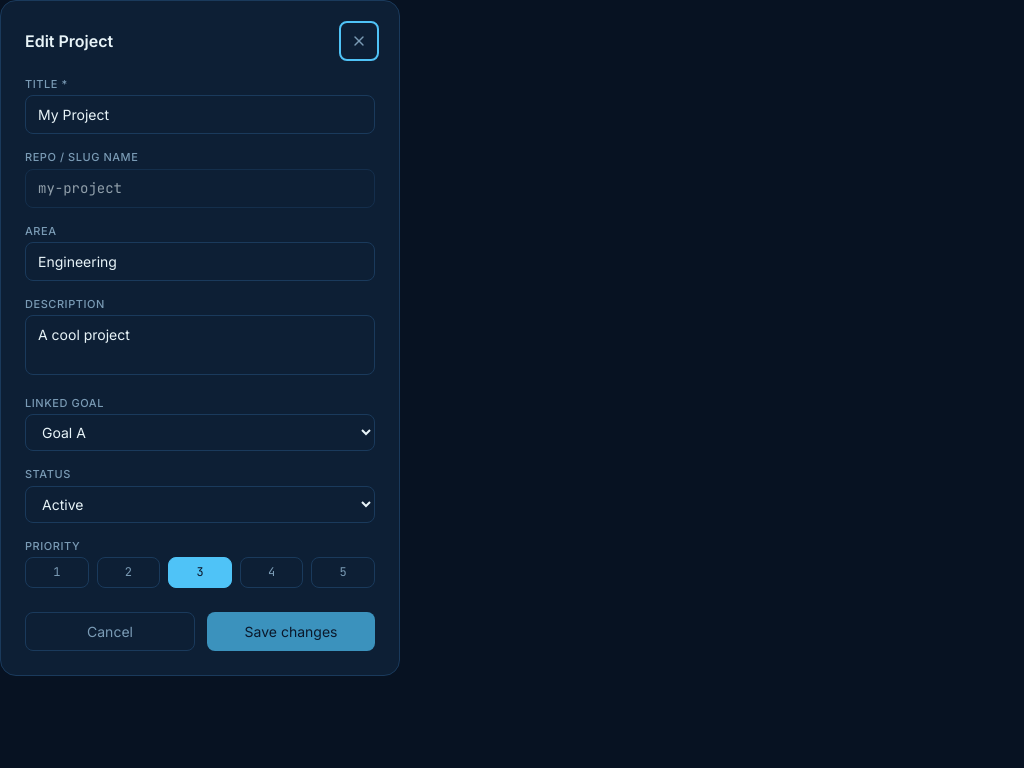
it: ProjectModal — Edit mode › shows save-failed error on update 5xx
Replace the text in the field labelled "Title *" with "Changed" at (200, 115), box [25,95,375,134]
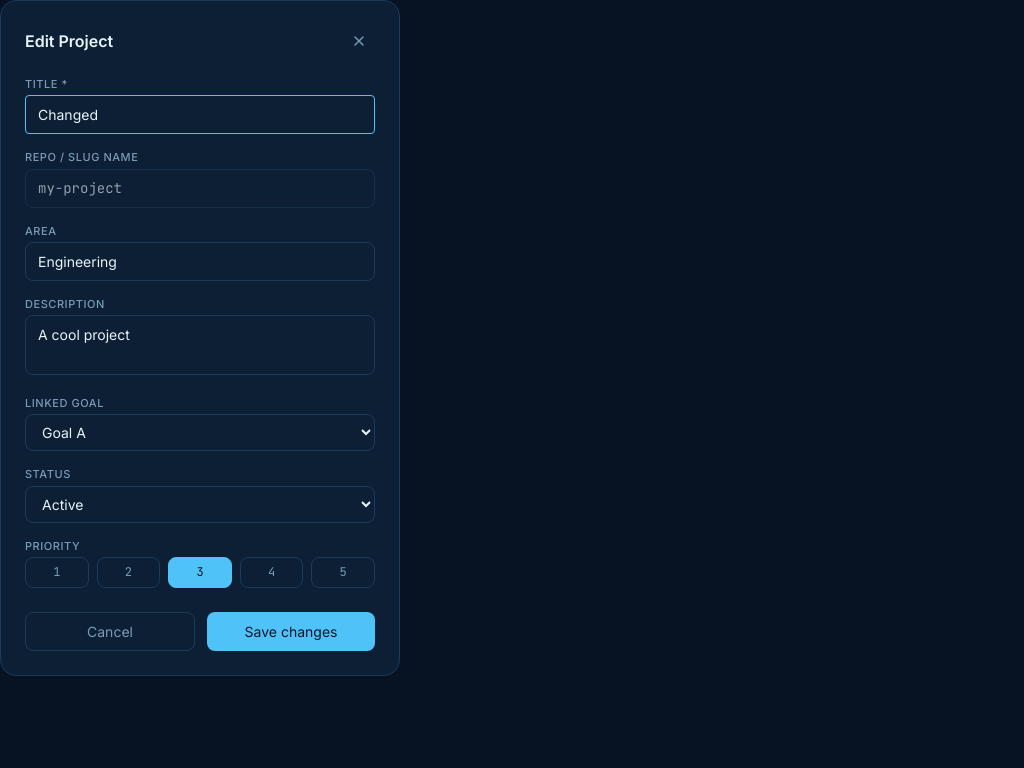
Click the button "Save changes" at (291, 631), box [207,612,375,651]
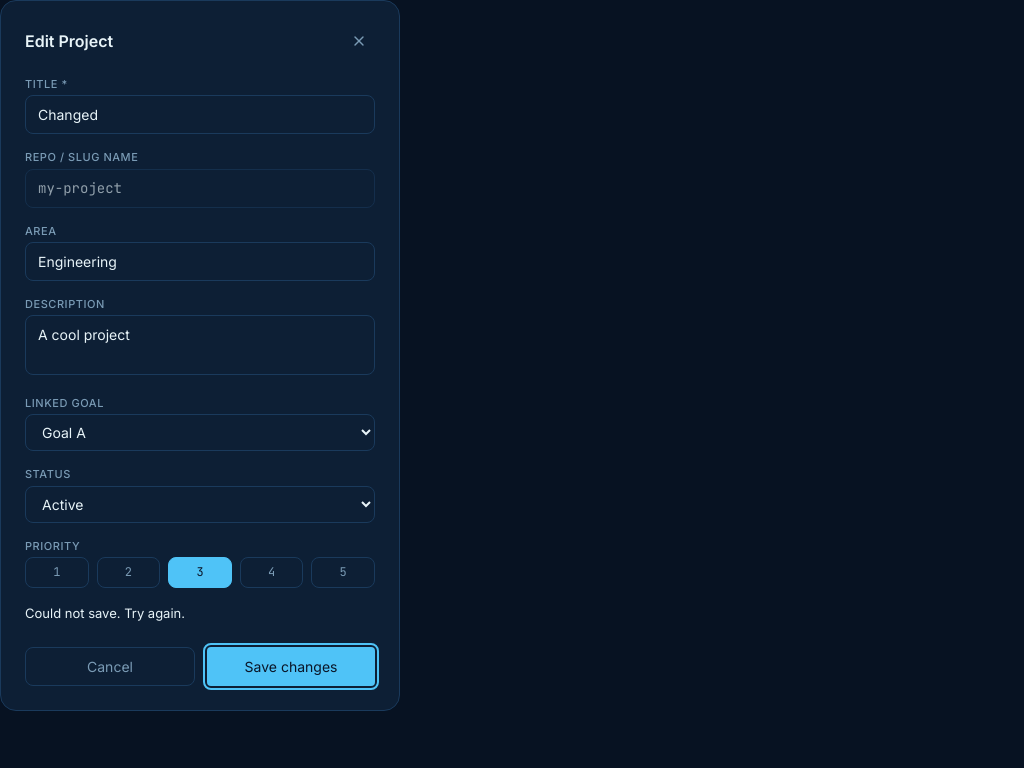
Result: the text "Could not save. Try again." is shown at [25,605,185,621]
